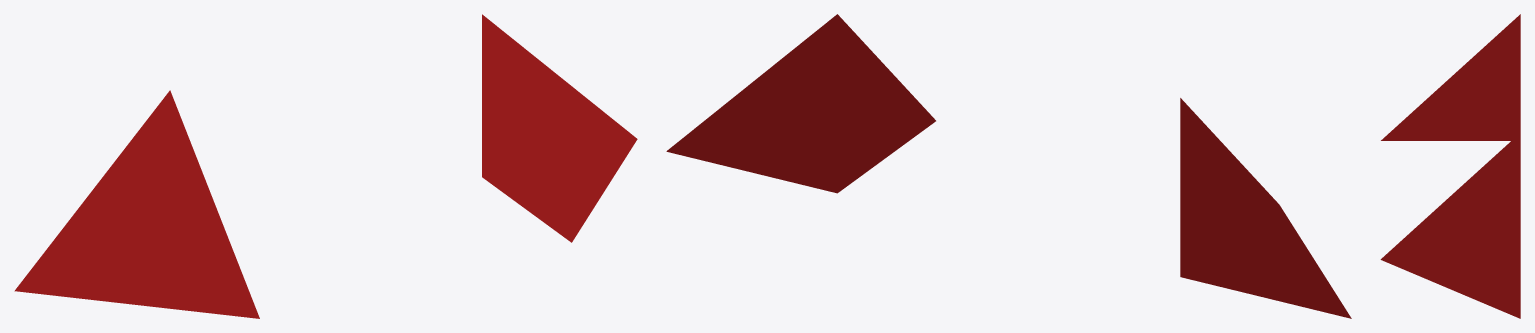
The model's file is bumper.dae.
The picture shows the model from 3 angles, left to right: view 1: azimuth 30°, elevation 25°; view 2: azimuth 150°, elevation 25°; view 3: azimuth 270°, elevation 25°; orthographic projection. The views are drawn at different scales.
Visible parts, largest first — view 1: right, left; view 2: left, right; view 3: left, right.
Part boxes in pixels (bbox=[...]): right: bbox=[14, 90, 259, 318]; left: bbox=[482, 14, 637, 242]; left: bbox=[666, 14, 935, 193]; right: bbox=[1180, 98, 1351, 318]; left: bbox=[1380, 133, 1520, 318]; right: bbox=[1381, 14, 1520, 140].
Size of the model in its own units: 40 by 10 by 10.
